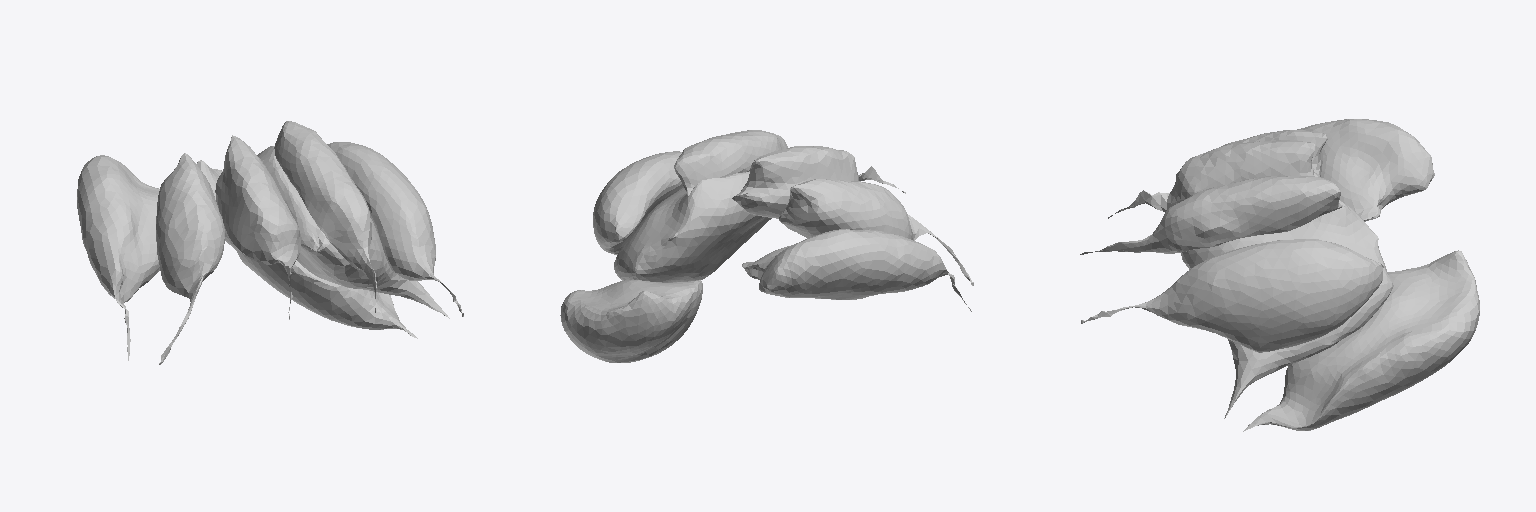
Rendered from rand_2_muscle.obj.
The picture shows the model from 3 angles: view 1: azimuth 30°, elevation 25°; view 2: azimuth 150°, elevation 25°; view 3: azimuth 270°, elevation 25°; orthographic projection.
Bounding box in the file's own units: 81.18 × 51.47 × 85.05.